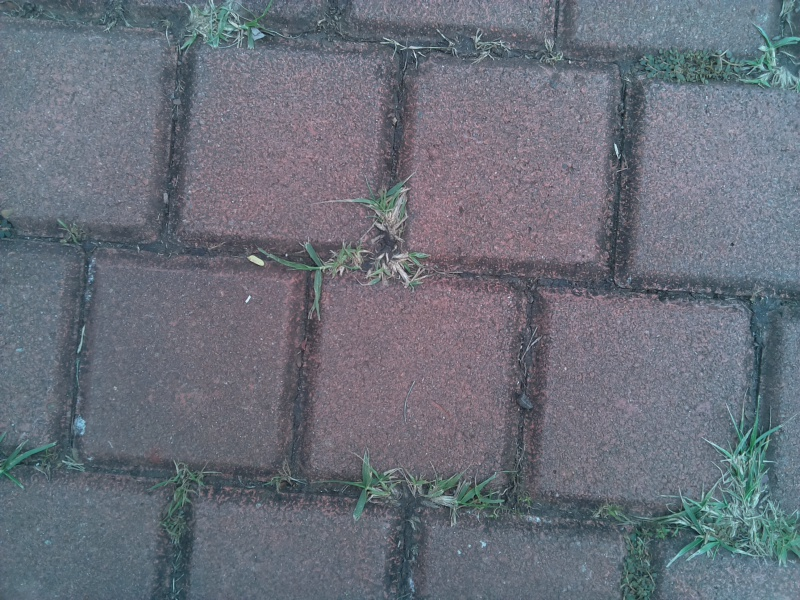Weed: (676, 406, 800, 568), (263, 230, 365, 311), (412, 459, 520, 534), (336, 449, 410, 525), (177, 3, 270, 60), (638, 41, 728, 96), (353, 178, 420, 248), (157, 458, 210, 546), (364, 242, 438, 302), (610, 524, 664, 600), (28, 440, 91, 483), (260, 458, 307, 501), (48, 210, 91, 252)
